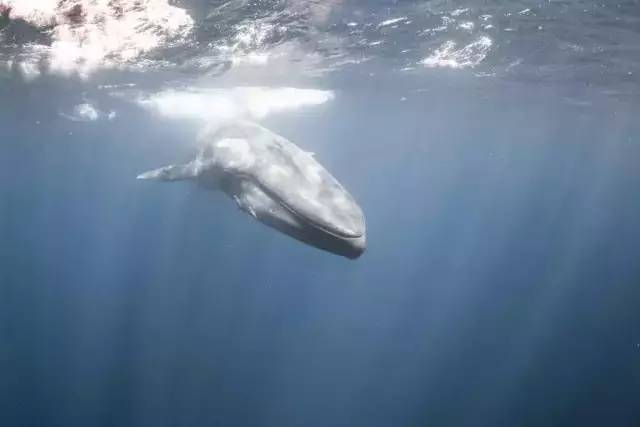fish: (133, 104, 377, 263)
